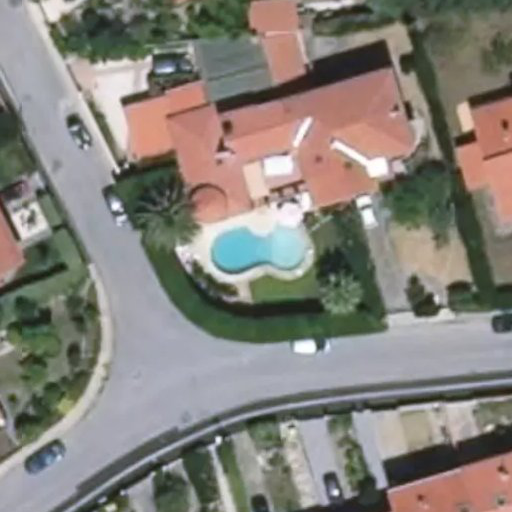pool: (209, 217, 303, 266)
